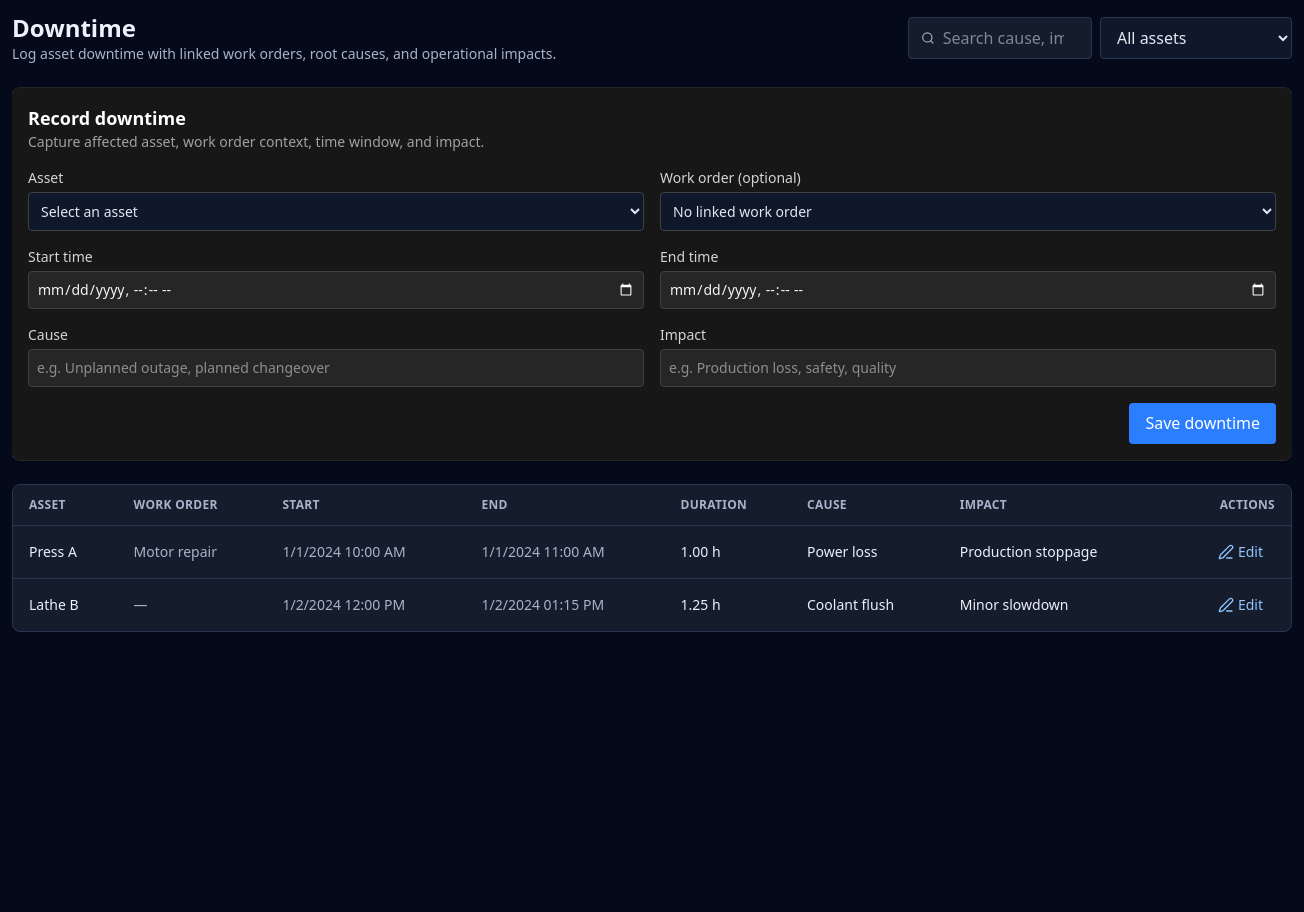
Scenario: DowntimeLogsPage › blocks overlapping downtime entries for the same asset
The width and height of the screenshot is (1304, 912).
Expected: the text "Power loss" is shown, left=791, top=525, right=944, bottom=578
Select "Press A" in the dropdown with test id "asset-select" at (336,212), box left=28, top=192, right=644, bottom=231
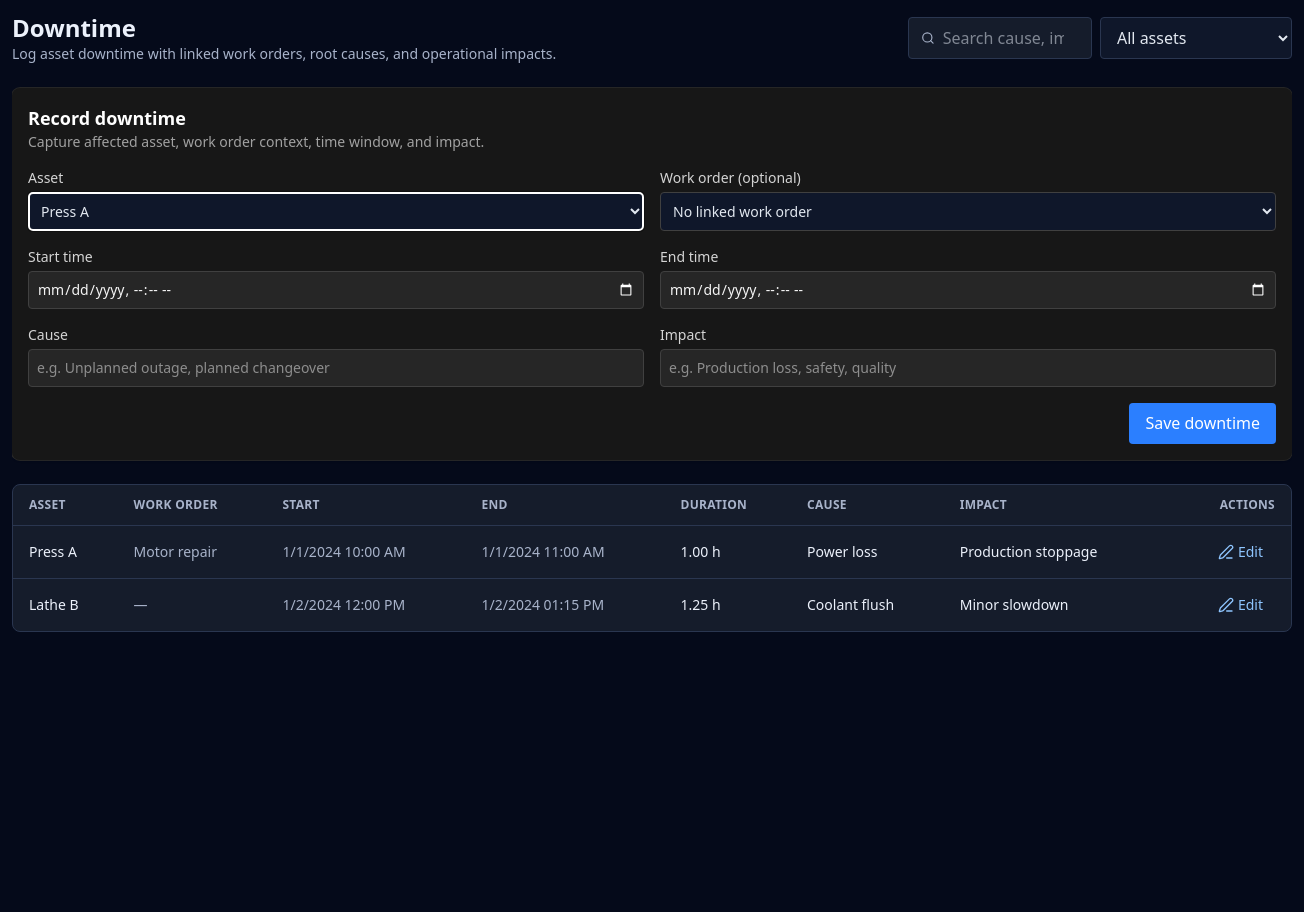
Type "2024-01-01T10:30" into the field labelled "Start time" at (336,290), box left=28, top=271, right=644, bottom=309
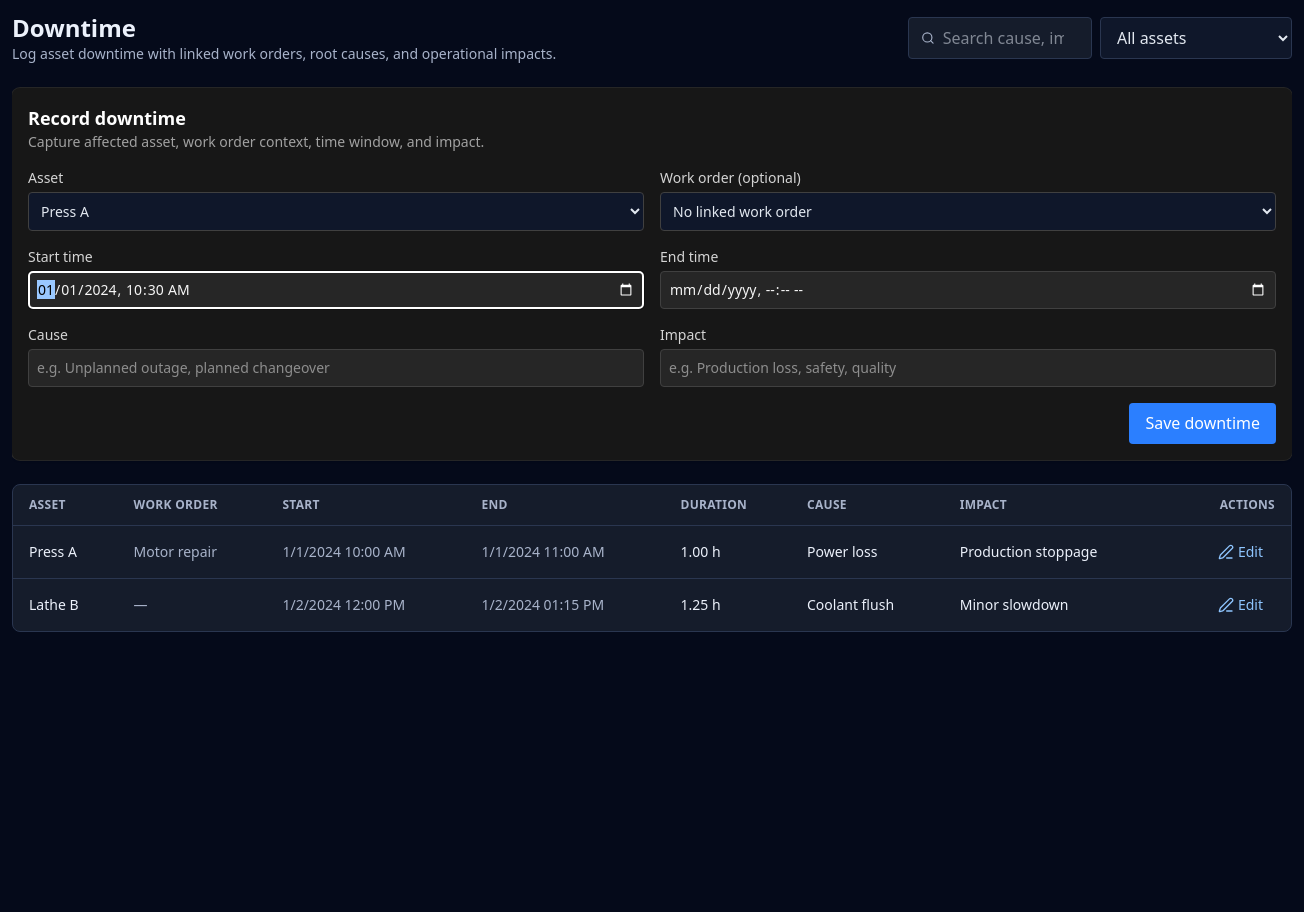
Type "2024-01-01T11:30" into the field labelled "End time" at (968,290), box left=660, top=271, right=1276, bottom=309
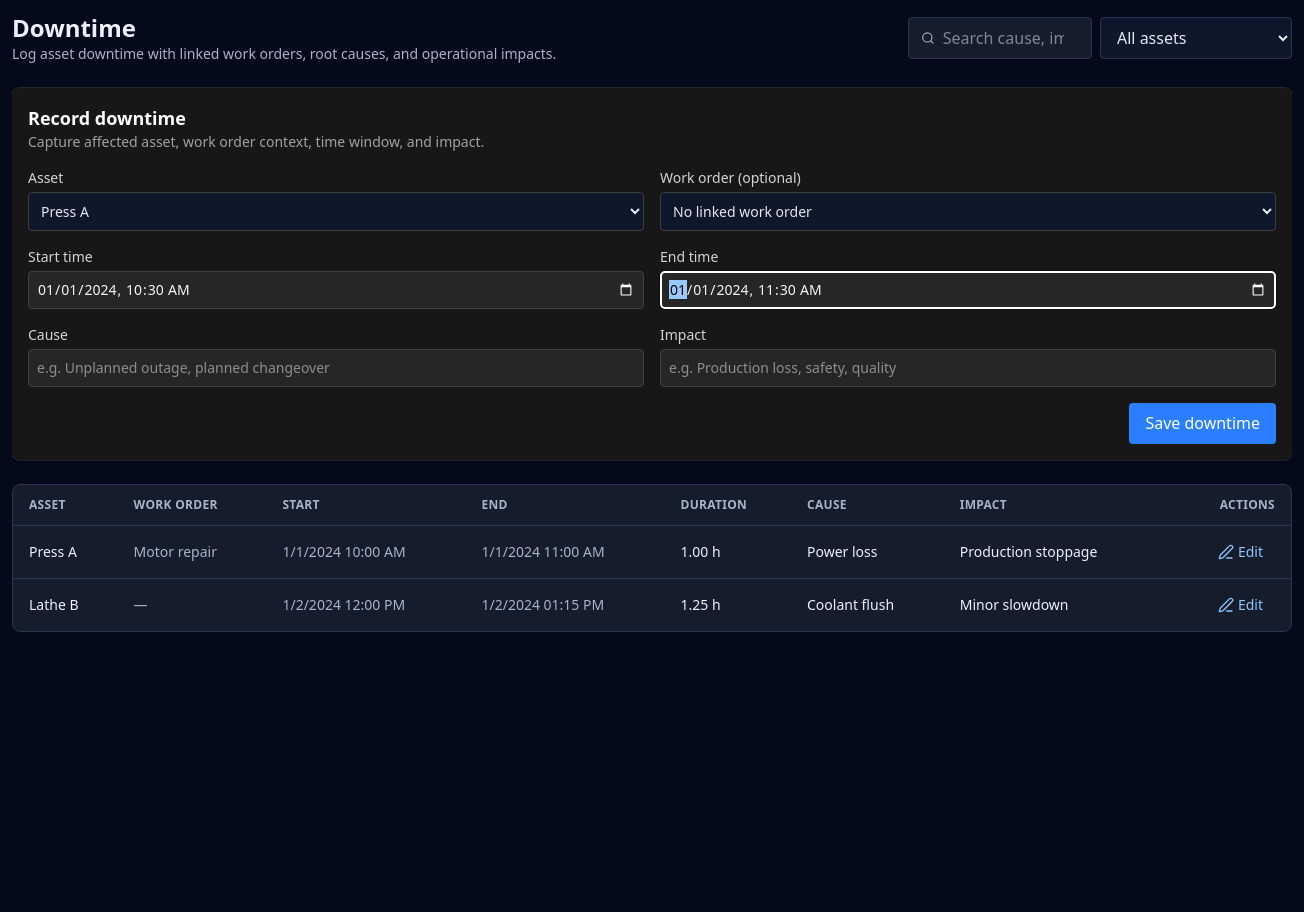
Type "Overlap test" into the field labelled "Cause" at (336,368), box left=28, top=349, right=644, bottom=387
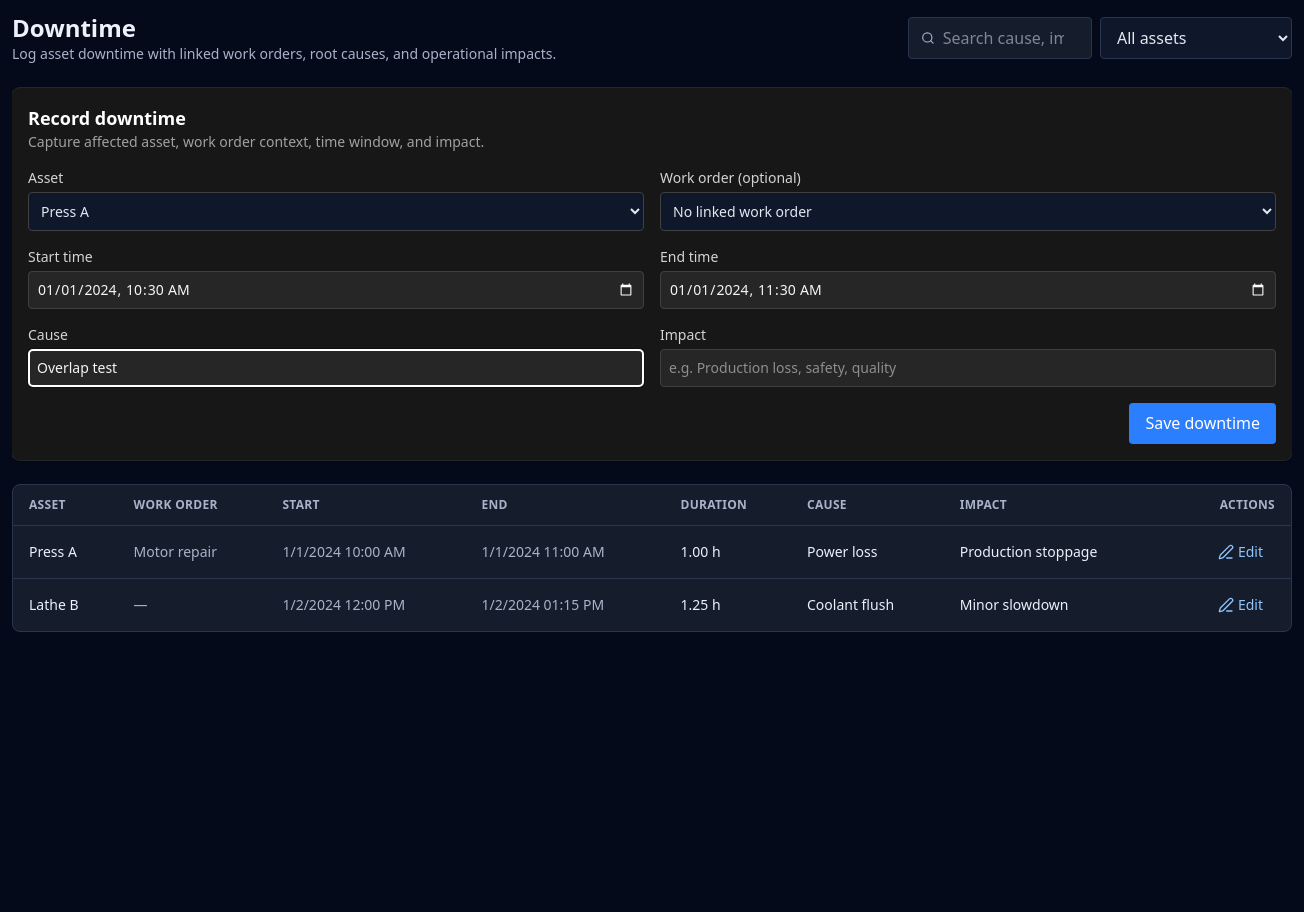
Type "Test" into the field labelled "Impact" at (968,368), box left=660, top=349, right=1276, bottom=387
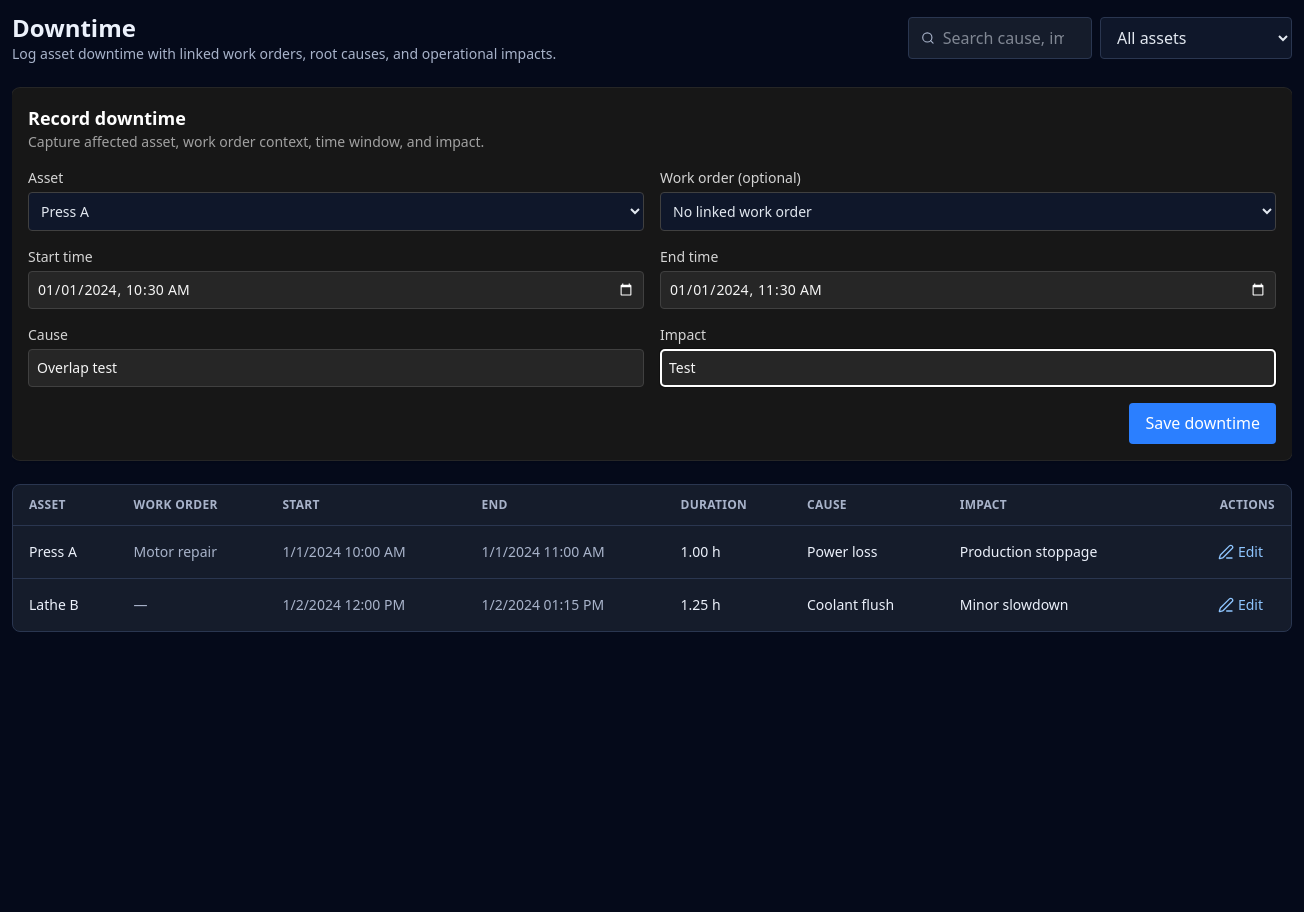
Click the button "Save downtime" at (1203,423), box left=1129, top=403, right=1276, bottom=444
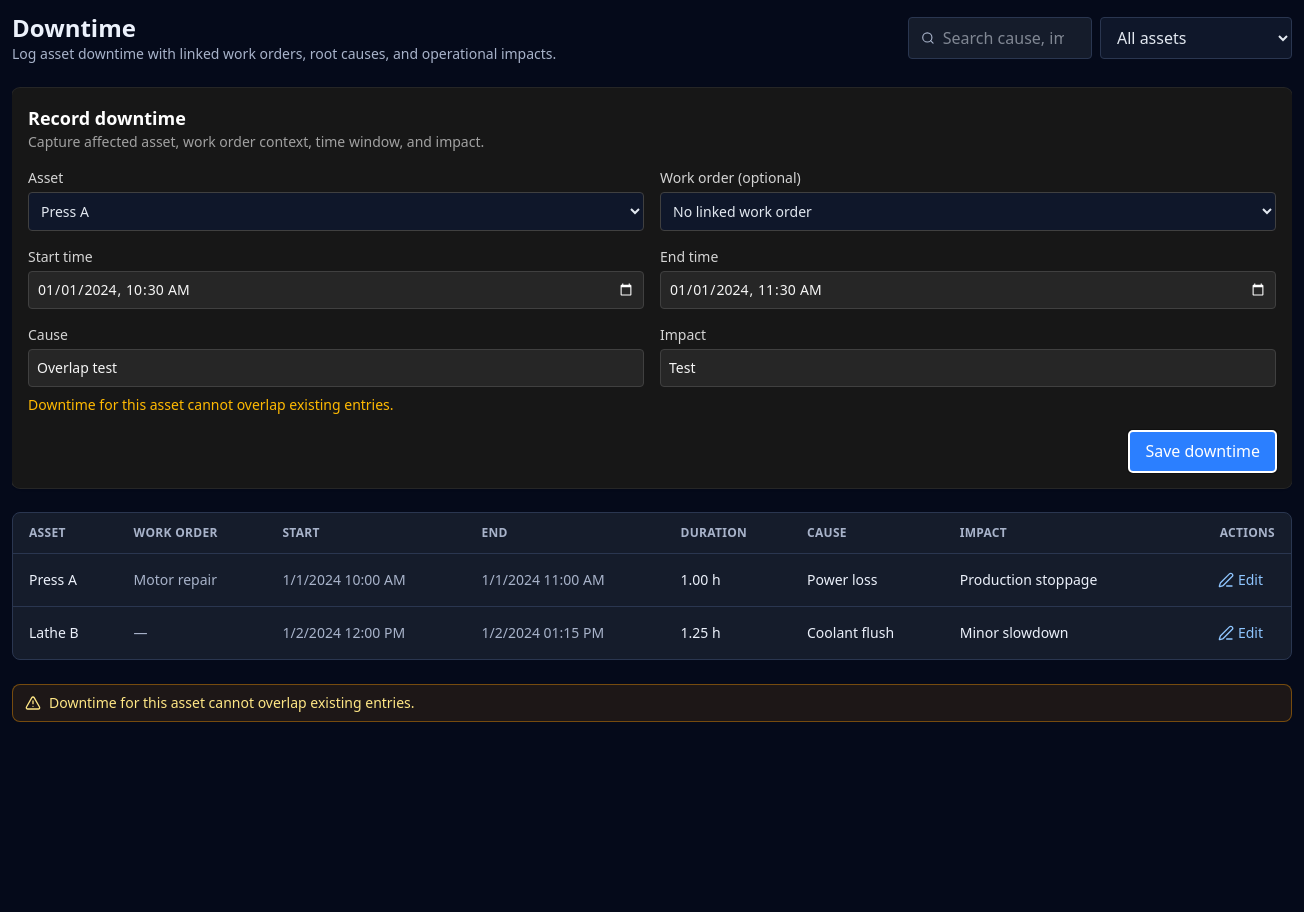
Expected: the text "Downtime for this asset cannot overlap existing entries." below "Start time" is shown, left=28, top=395, right=394, bottom=414
